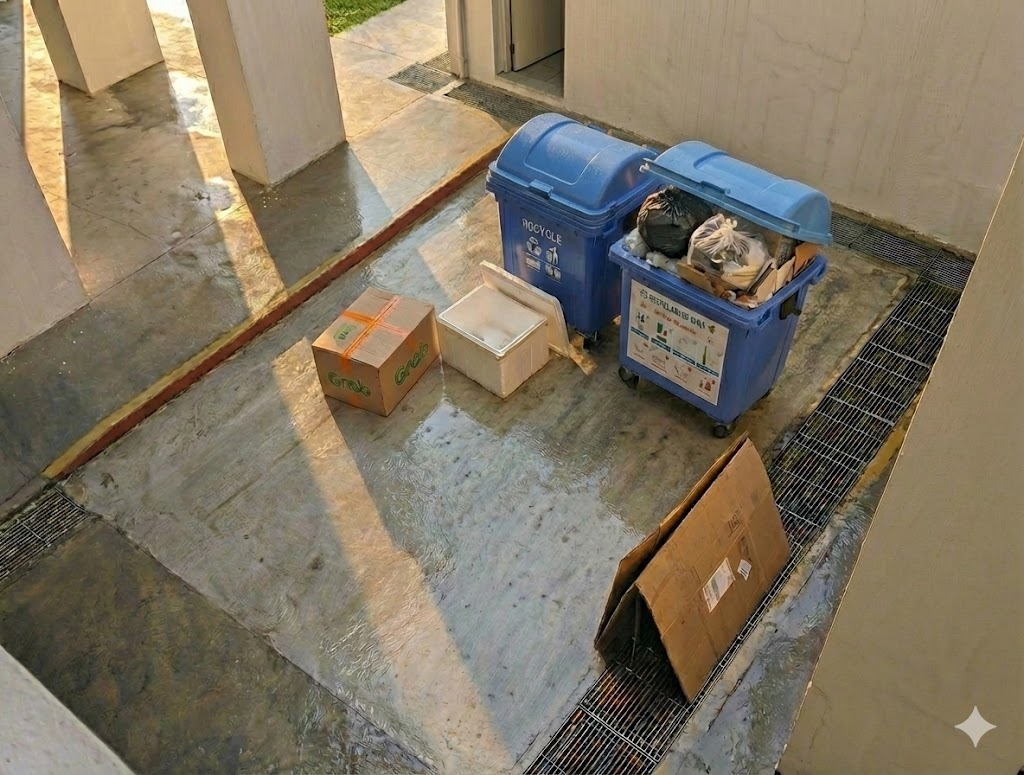bin_empty: (485, 113, 655, 338)
bin_full: (607, 142, 830, 437)
bulk_waste: (595, 434, 789, 700), (438, 262, 568, 398), (313, 288, 438, 415)
